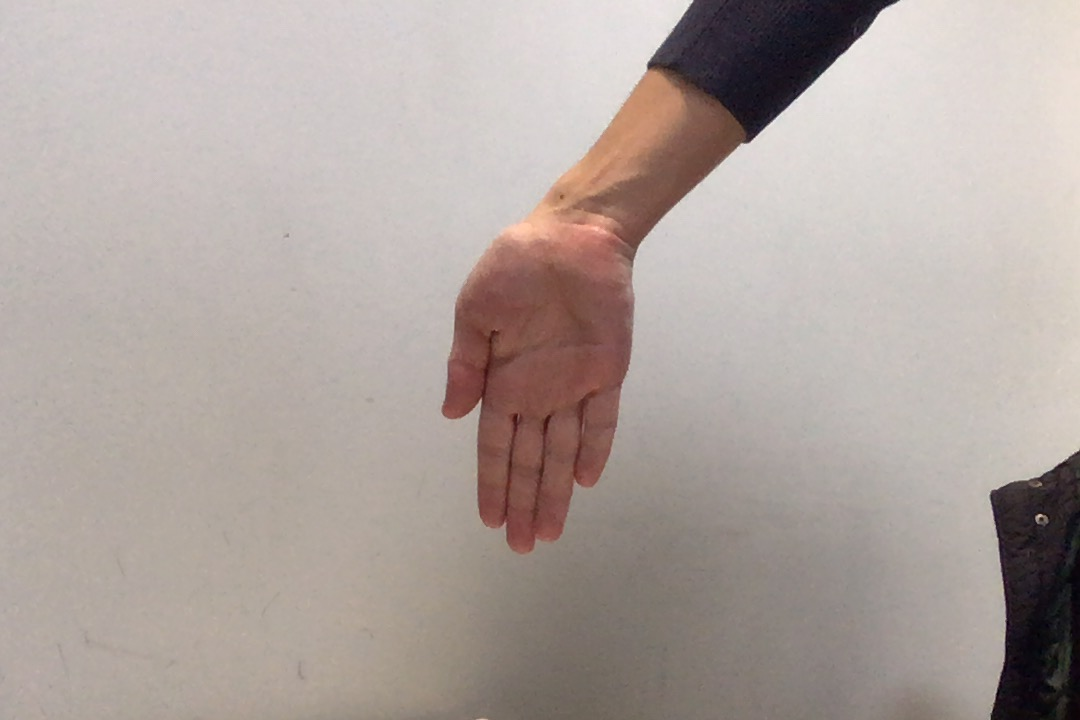palmhand: (438, 210, 638, 555)
